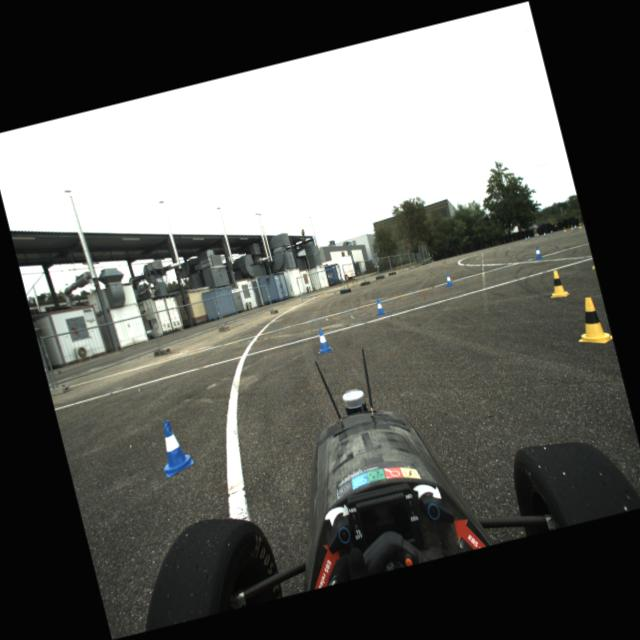blue_cone: (152, 416, 196, 478), (312, 326, 333, 354), (372, 297, 386, 316), (443, 271, 454, 286), (532, 246, 542, 259), (574, 223, 578, 230), (524, 236, 528, 241), (543, 232, 546, 236), (528, 236, 530, 238), (537, 234, 539, 236), (550, 230, 552, 232)
yellow_cone: (569, 294, 613, 348), (544, 268, 570, 300), (562, 226, 566, 231), (570, 224, 574, 229), (578, 223, 582, 228)
